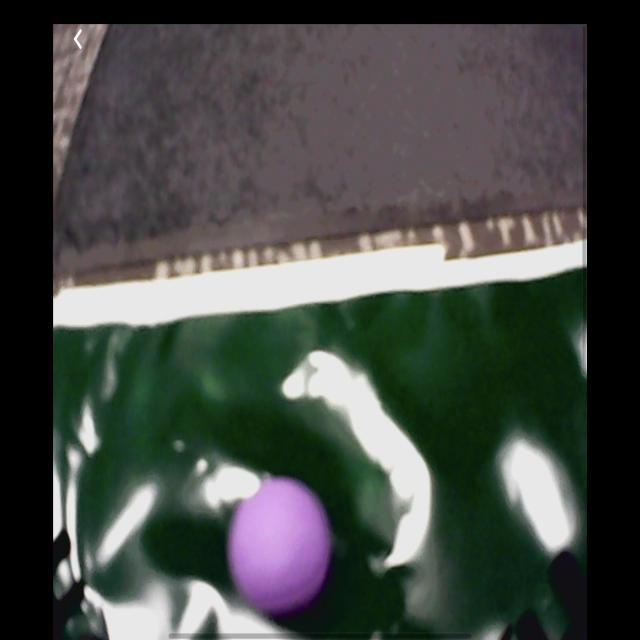ball: (228, 478, 332, 610)
